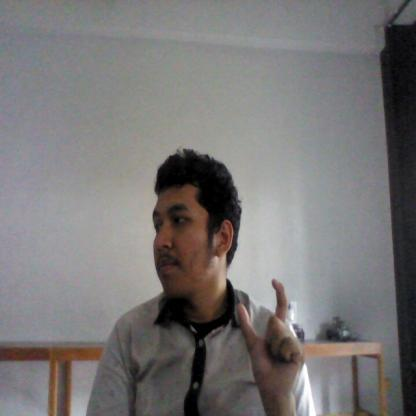U: (235, 278, 308, 402)
